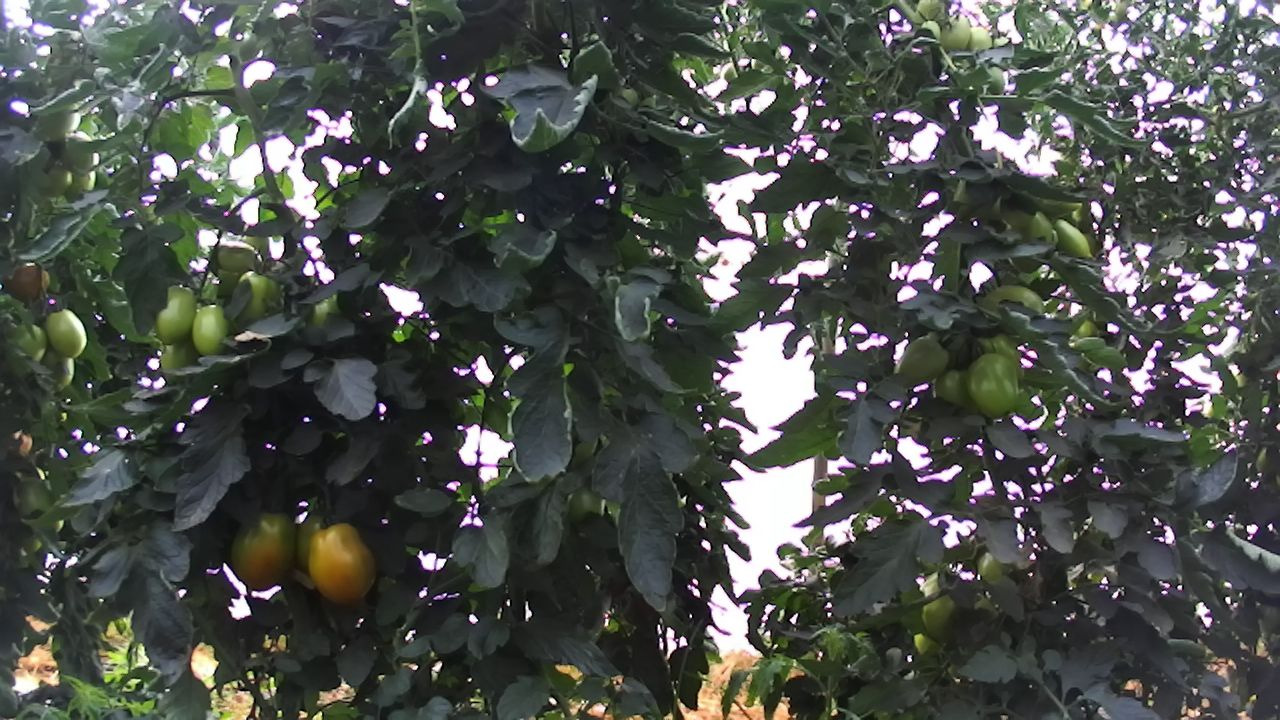tomato: (306, 519, 382, 610), (227, 506, 300, 593), (965, 349, 1024, 422), (891, 331, 955, 385), (154, 284, 198, 349), (43, 302, 90, 361), (186, 301, 232, 357)
